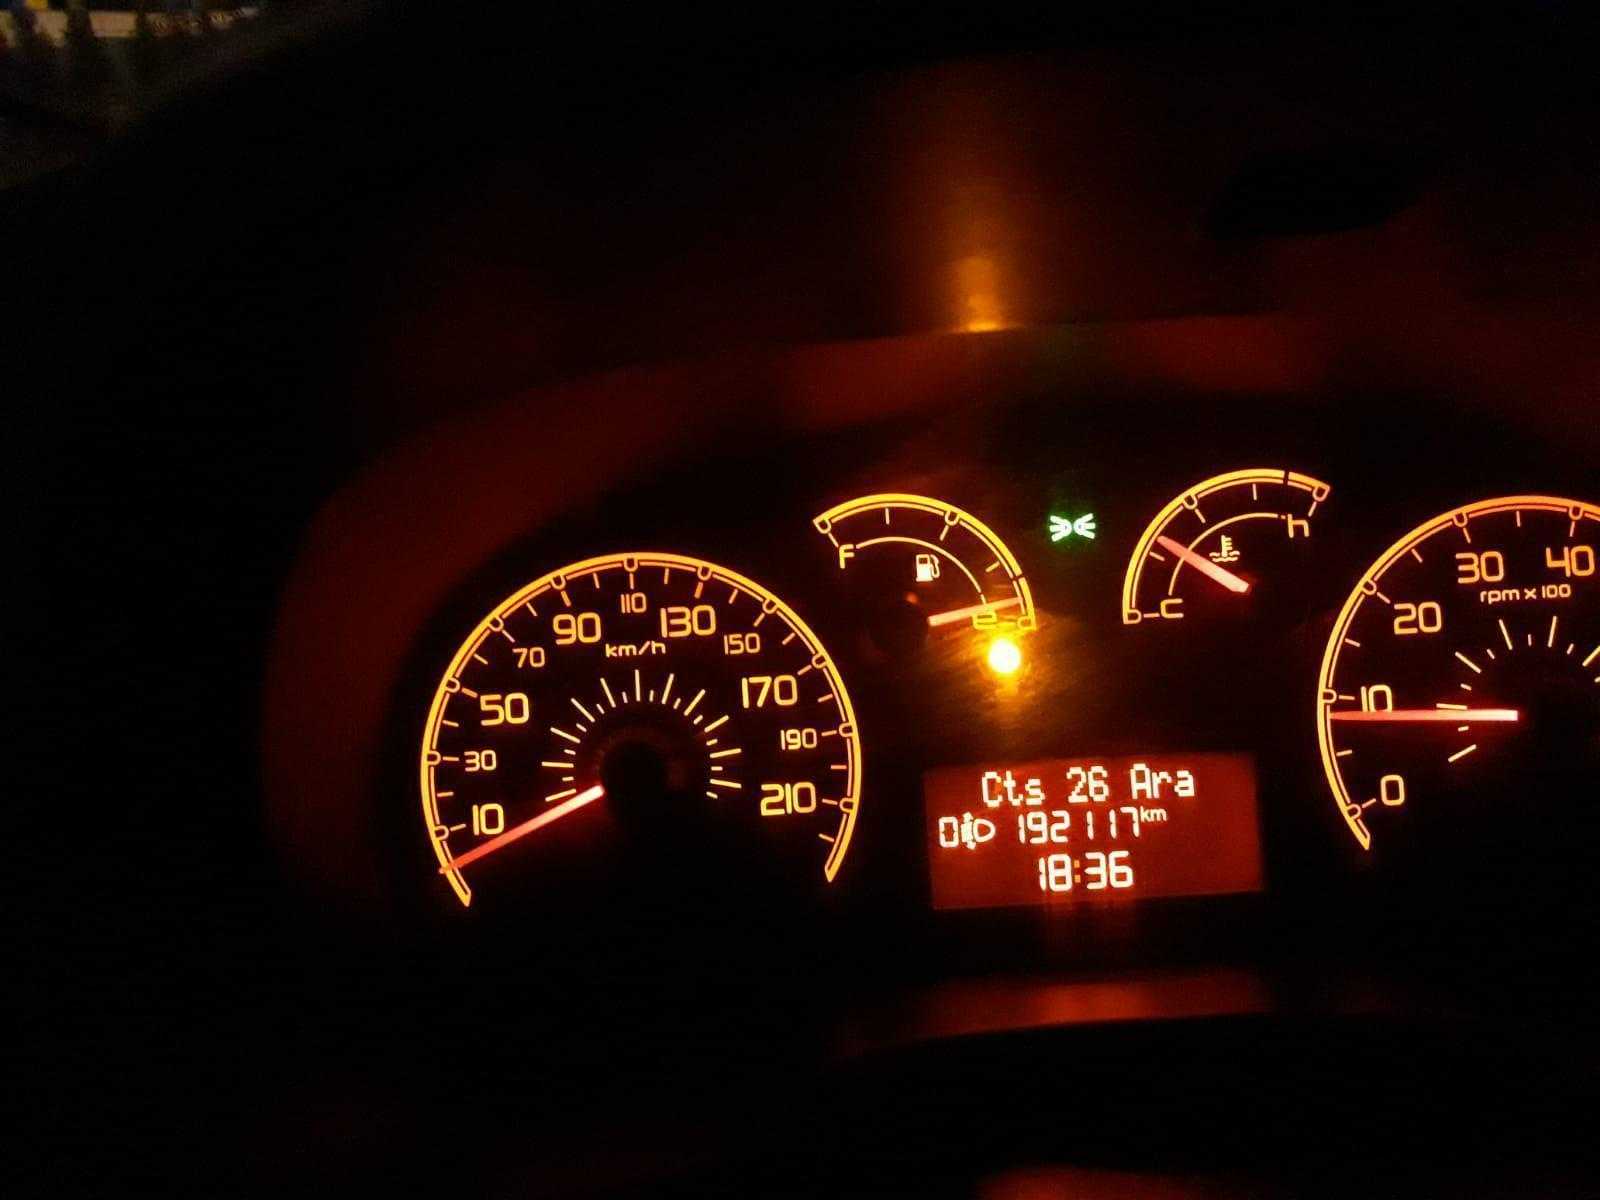0: (936, 814, 957, 848)
1: (1034, 855, 1047, 896), (1083, 809, 1097, 846), (1105, 807, 1117, 841), (1015, 811, 1026, 845)
2: (1065, 764, 1089, 803), (1048, 809, 1071, 845)
3: (1083, 848, 1107, 891)
6: (1107, 848, 1133, 890), (1089, 763, 1109, 800)
7: (1121, 804, 1138, 841)
8: (1047, 852, 1071, 892)
9: (1026, 809, 1048, 843)
X: (1129, 761, 1151, 799), (981, 770, 1003, 808), (1003, 770, 1023, 807), (1151, 770, 1174, 799), (1175, 766, 1194, 798), (1024, 776, 1044, 805), (1073, 855, 1082, 887), (1150, 807, 1167, 823), (1138, 804, 1151, 822)
odometer: (913, 750, 1267, 909)
